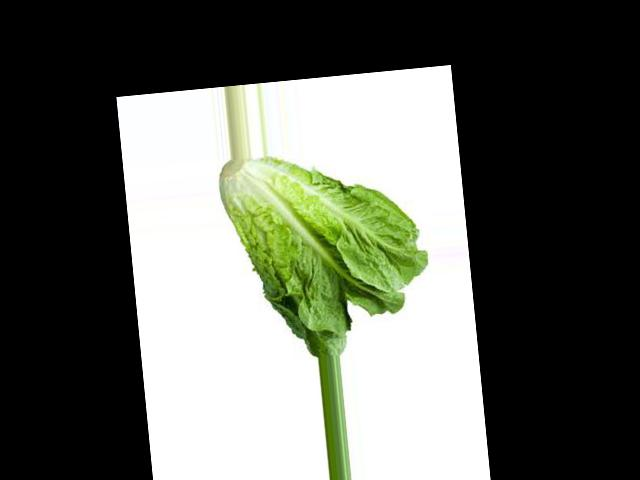lettuce: (253, 150, 355, 266)
